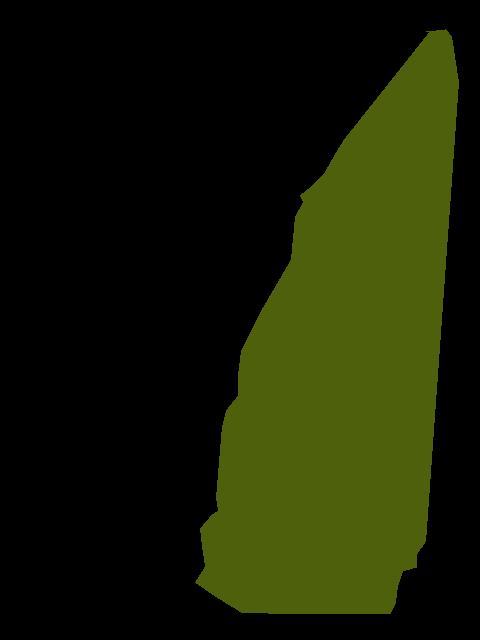Train: (195, 29, 459, 613)
